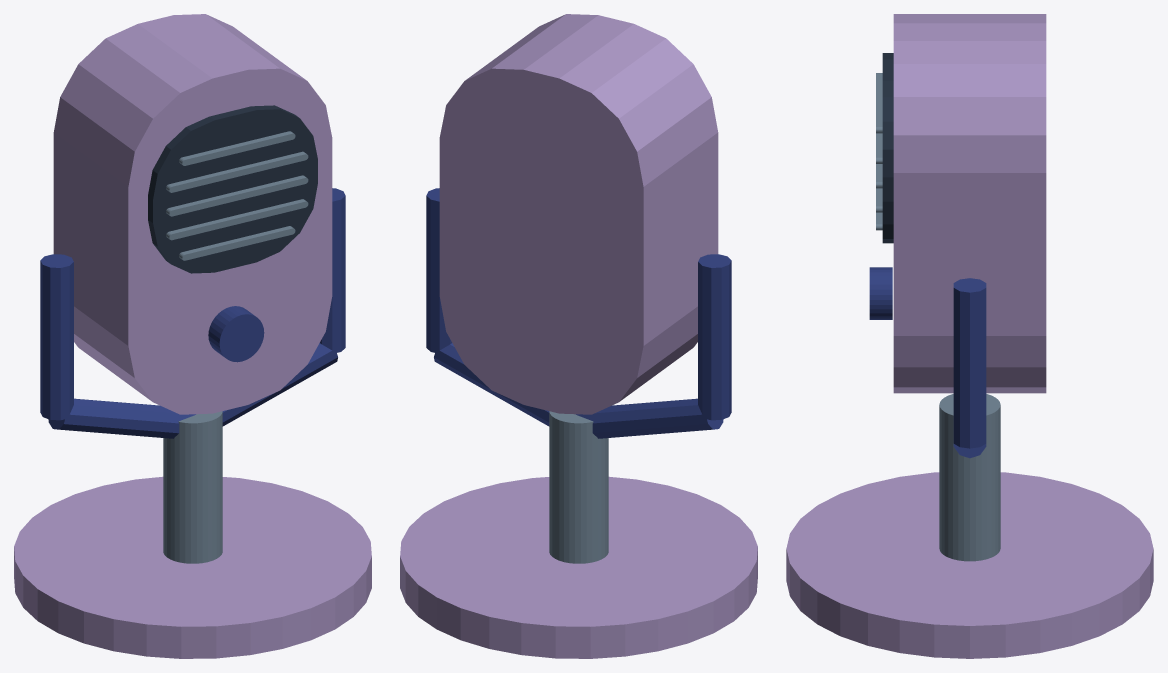
File: mic.glb
3 views of the same model, side by side, from view 1: azimuth 30°, elevation 25°; view 2: azimuth 150°, elevation 25°; view 3: azimuth 270°, elevation 25° (orthographic). The views are drawn at different scales.
Parts seen in each view (by area): view 1: capsule, base, grille, stand, yoke0, yoke1, yoke3, mute key, mesh bar 3, mesh bar 1, mesh bar 2, yoke2 (+2 smaller); view 2: capsule, base, stand, yoke0, yoke1, yoke3, yoke2; view 3: capsule, base, stand, yoke3, grille, mute key.
Boxes of the visible parts, left/top/right/bottom form: capsule: left=53, top=14, right=332, bottom=414; base: left=14, top=476, right=371, bottom=658; grille: left=148, top=105, right=317, bottom=273; stand: left=163, top=411, right=222, bottom=563; yoke0: left=40, top=254, right=73, bottom=420; yoke1: left=48, top=398, right=195, bottom=438; yoke3: left=320, top=188, right=345, bottom=352; mute key: left=208, top=306, right=264, bottom=362; mesh bar 3: left=166, top=151, right=308, bottom=192; mesh bar 1: left=166, top=199, right=308, bottom=240; mesh bar 2: left=166, top=175, right=308, bottom=216; yoke2: left=222, top=343, right=337, bottom=426; capsule: left=439, top=14, right=718, bottom=414; base: left=400, top=476, right=757, bottom=658; stand: left=549, top=411, right=608, bottom=563; yoke0: left=698, top=254, right=731, bottom=420; yoke1: left=576, top=398, right=723, bottom=438; yoke3: left=426, top=188, right=451, bottom=352; yoke2: left=434, top=343, right=549, bottom=426; capsule: left=893, top=14, right=1046, bottom=393; base: left=786, top=472, right=1153, bottom=658; stand: left=939, top=394, right=1000, bottom=561; yoke3: left=953, top=278, right=986, bottom=448; grille: left=882, top=53, right=893, bottom=243; mute key: left=869, top=267, right=892, bottom=319.
Bounding box in the file's own units: 0.96 × 1.59 × 0.96.
